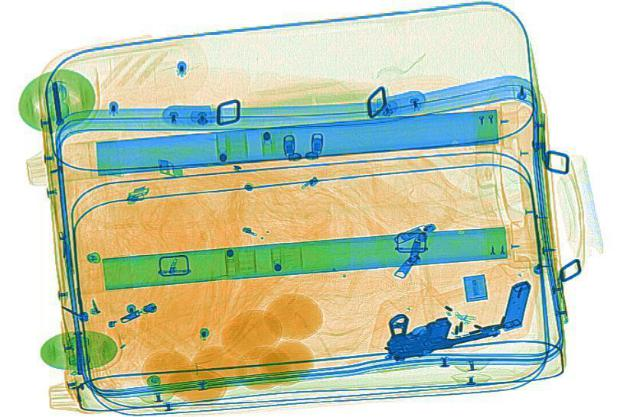Gun: (362, 295, 504, 363)
